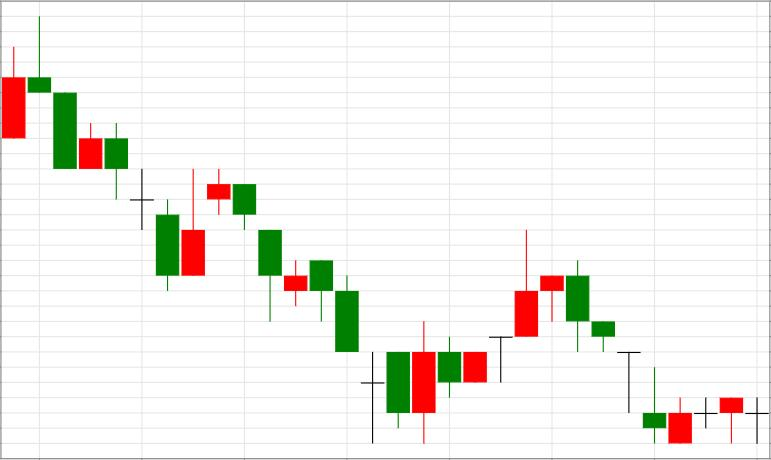bullish_engulfing_rise: (233, 184, 435, 444)
